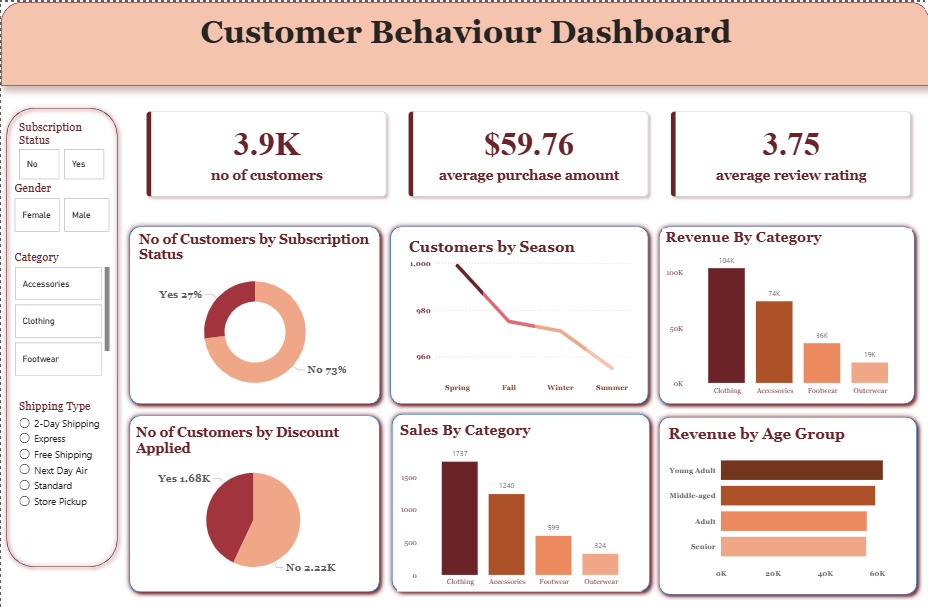

The dashboard page shown, as its layout file describes it:
{"tool":"powerbi","page":{"name":"Page 1","canvas":[1550,1013],"ordinal":0},"visuals":[{"type":"shape","box":[642,678,448,314],"z":0},{"type":"shape","box":[1088,682,448,314],"z":1000},{"type":"shape","box":[205,680,435,312.5],"z":2000},{"type":"shape","box":[0,166.7,203.3,783.3],"z":3000},{"type":"cardVisual","fields":{"Data":["customer_data.no of customers","customer_data.average purchase  amount","customer_data.average review rating"]},"box":[224,166,1308,176],"z":4000},{"type":"shape","box":[0,0,1550,140],"z":5000},{"type":"textbox","box":[0,0,1550,140],"z":6000},{"type":"shape","box":[204,364,436,314],"z":7000},{"type":"donutChart","title":"No of Customers by Subscription Status","fields":{"Category":["customer_data.subscription_status"],"Y":["customer_data.no of customers"]},"box":[224,382,396,284],"z":8000},{"type":"shape","box":[640,366,448,314],"z":9000},{"type":"shape","box":[1088,366,444,314],"z":10000},{"type":"clusteredColumnChart","title":"Revenue By Category","fields":{"Y":["Sum(customer_data.purchase_amount)"],"Category":["customer_data.category"]},"box":[1102.5,377.5,415,285],"z":11000},{"type":"clusteredColumnChart","title":"Sales By Category","fields":{"Category":["customer_data.category"],"Y":["customer_data.no of customers"]},"box":[660,700,407.5,282.5],"z":12000},{"type":"advancedSlicerVisual","title":"Subscription Status","fields":{"Values":["customer_data.subscription_status"]},"box":[25,196.7,153.3,103.3],"z":13000},{"type":"advancedSlicerVisual","title":"Gender","fields":{"Values":["customer_data.gender"]},"box":[18,300,168,88],"z":14000},{"type":"lineChart","title":"Customers by Season","fields":{"Y":["customer_data.no of customers"],"Category":["customer_data.season"]},"box":[675,392.5,382.5,265],"z":15000},{"type":"listSlicer","title":"Shipping Type","fields":{"Values":["customer_data.shipping_type"]},"box":[25,661.7,153.3,245],"z":16000},{"type":"pieChart","title":"No of Customers by Discount Applied","fields":{"Category":["customer_data.discount_applied"],"Y":["customer_data.no of customers"]},"box":[220,705,400,265],"z":17000},{"type":"clusteredBarChart","title":"Revenue by Age Group","fields":{"Y":["Sum(customer_data.purchase_amount)"],"Category":["customer_data.age_group"]},"box":[1108,704,414,264],"z":18000},{"type":"advancedSlicerVisual","title":"Category","fields":{"Values":["customer_data.category"]},"box":[18,416,168,214],"z":19000}]}

Visuals, with their boxes in screenshot pixels (x1, y1, x2, y2), scaled from the page's 1550x1013 canvas onto the 928x607 screenshot:
shape: pyautogui.locateOnScreen(384, 406, 653, 594)
shape: pyautogui.locateOnScreen(651, 409, 920, 597)
shape: pyautogui.locateOnScreen(123, 407, 383, 595)
shape: pyautogui.locateOnScreen(0, 100, 122, 569)
cardVisual - customer_data.no of customers x customer_data.average purchase  amount: pyautogui.locateOnScreen(134, 99, 917, 205)
shape: pyautogui.locateOnScreen(0, 0, 927, 84)
textbox: pyautogui.locateOnScreen(0, 0, 927, 84)
shape: pyautogui.locateOnScreen(122, 218, 383, 406)
"No of Customers by Subscription Status" donutChart: pyautogui.locateOnScreen(134, 229, 371, 399)
shape: pyautogui.locateOnScreen(383, 219, 651, 407)
shape: pyautogui.locateOnScreen(651, 219, 917, 407)
"Revenue By Category" clusteredColumnChart: pyautogui.locateOnScreen(660, 226, 909, 397)
"Sales By Category" clusteredColumnChart: pyautogui.locateOnScreen(395, 419, 639, 589)
"Subscription Status" advancedSlicerVisual: pyautogui.locateOnScreen(15, 118, 107, 180)
"Gender" advancedSlicerVisual: pyautogui.locateOnScreen(11, 180, 111, 232)
"Customers by Season" lineChart: pyautogui.locateOnScreen(404, 235, 633, 394)
"Shipping Type" listSlicer: pyautogui.locateOnScreen(15, 396, 107, 543)
"No of Customers by Discount Applied" pieChart: pyautogui.locateOnScreen(132, 422, 371, 581)
"Revenue by Age Group" clusteredBarChart: pyautogui.locateOnScreen(663, 422, 911, 580)
"Category" advancedSlicerVisual: pyautogui.locateOnScreen(11, 249, 111, 378)
